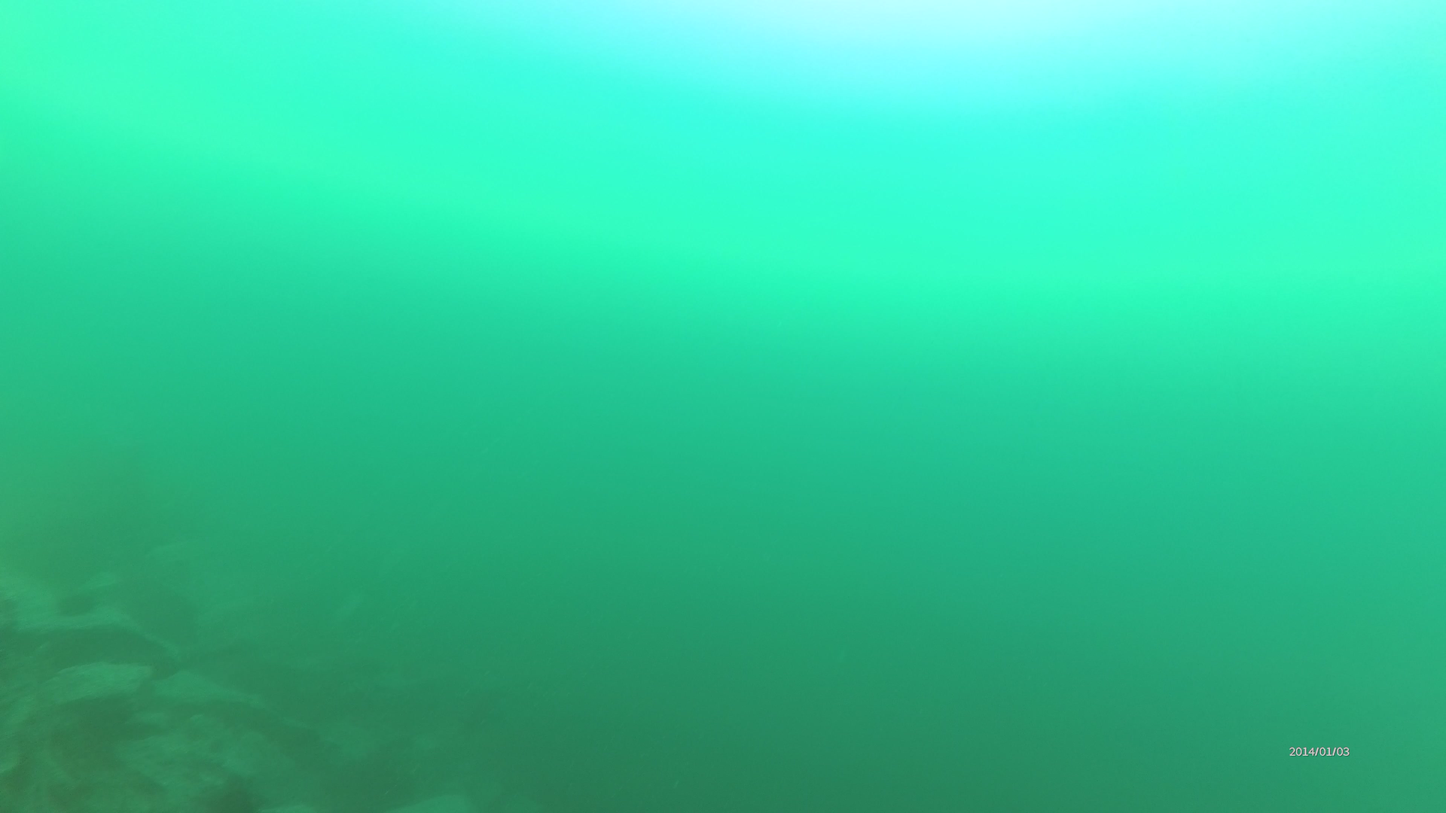starfish: (140, 643, 189, 686), (53, 586, 101, 618)
